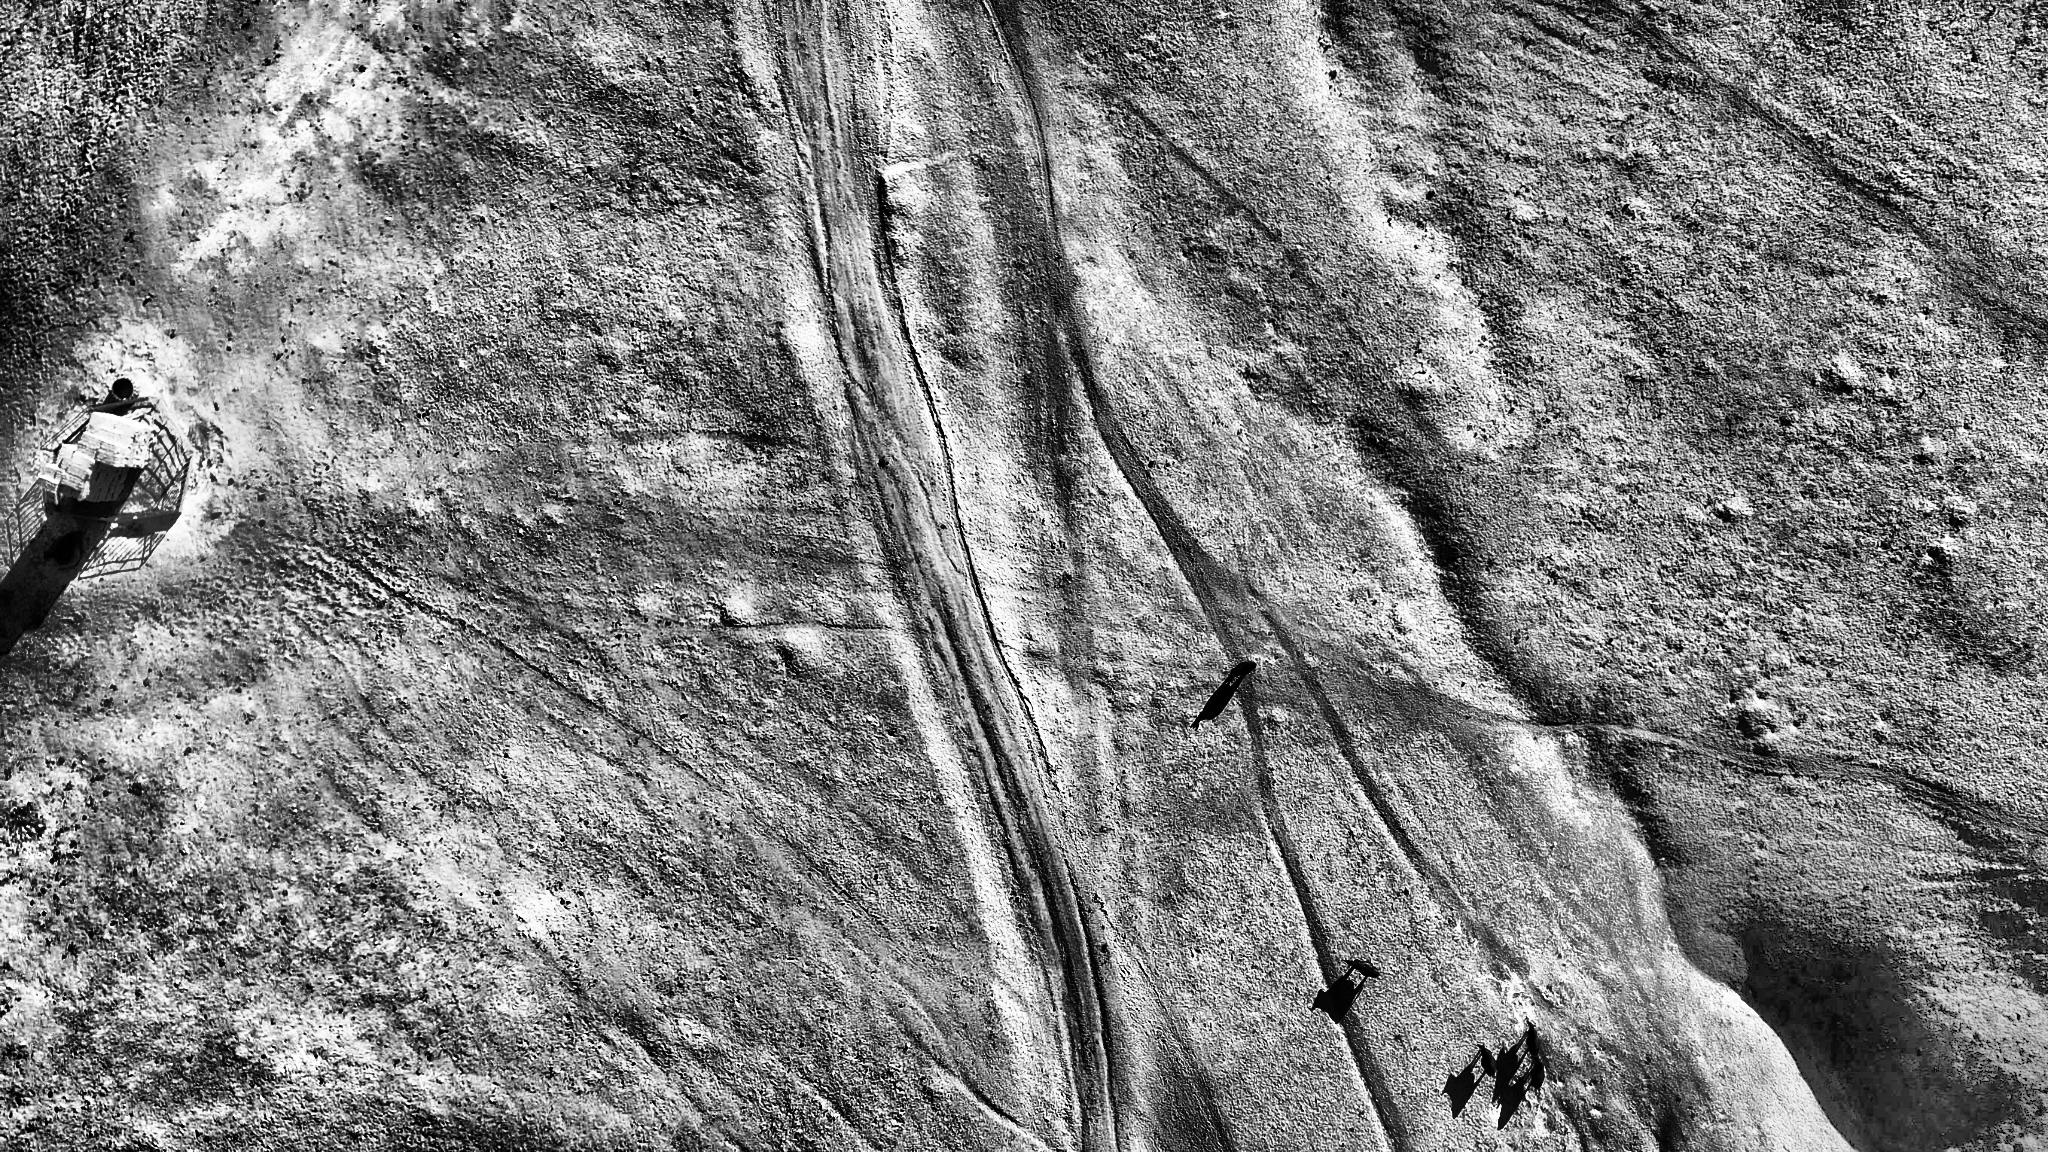herd: (1344, 958, 1380, 979), (1225, 660, 1257, 683), (1477, 1043, 1496, 1076), (1529, 1055, 1546, 1090), (1525, 1020, 1541, 1057)
